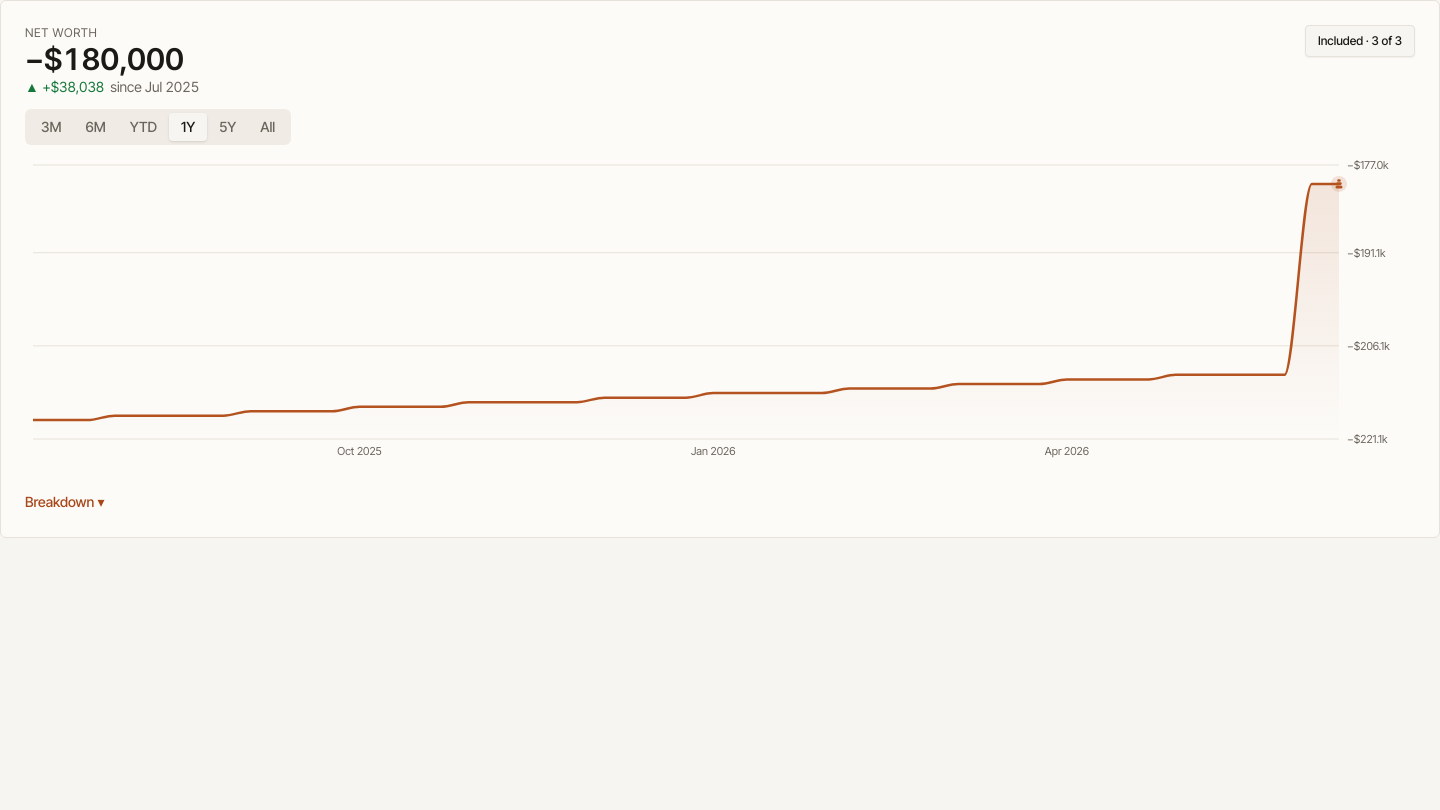
Test case: AssetValueChart — skeleton › picker toggle persists and updates the count + label
The width and height of the screenshot is (1440, 810).
Click the button "Included · 3 of 3" at point(1360, 41), box x1=1305 y1=25 x2=1415 y2=57
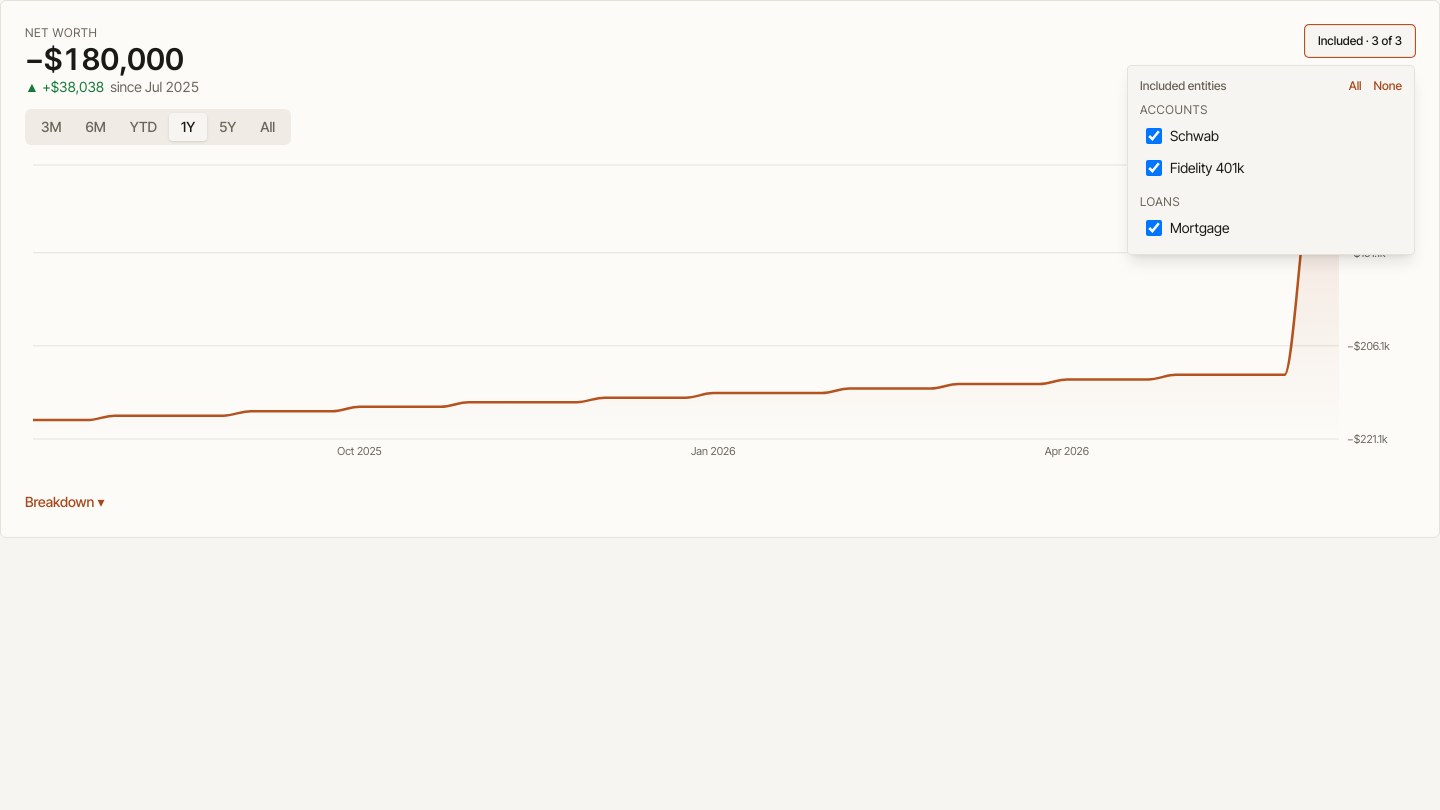
Click the checkbox labelled "Mortgage" at point(1154, 228), box x1=1146 y1=220 x2=1162 y2=236
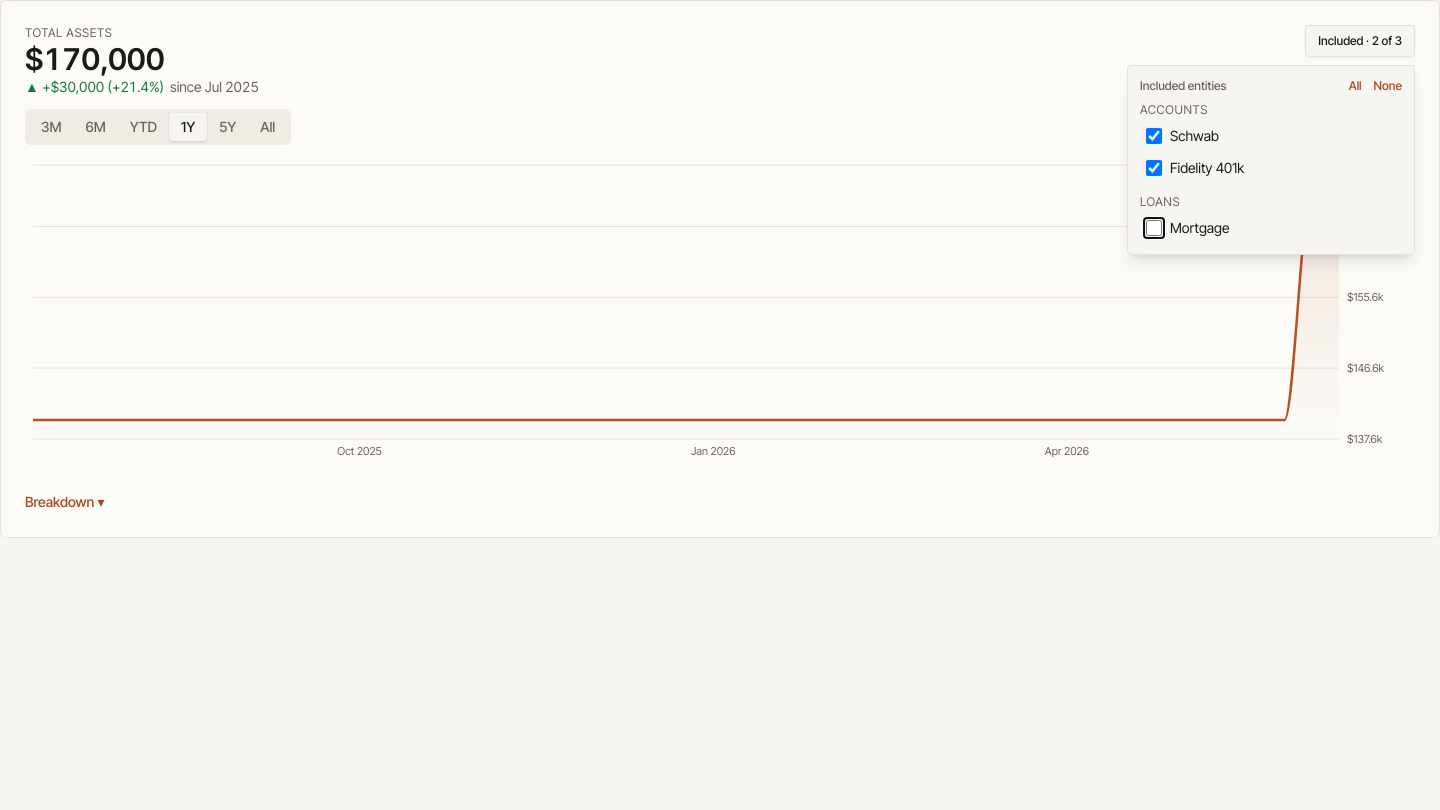
Expected: the button "Included · 2 of 3" is shown, x1=1305 y1=25 x2=1415 y2=57
Expected: the text "Total assets" is shown, x1=25 y1=25 x2=112 y2=41
